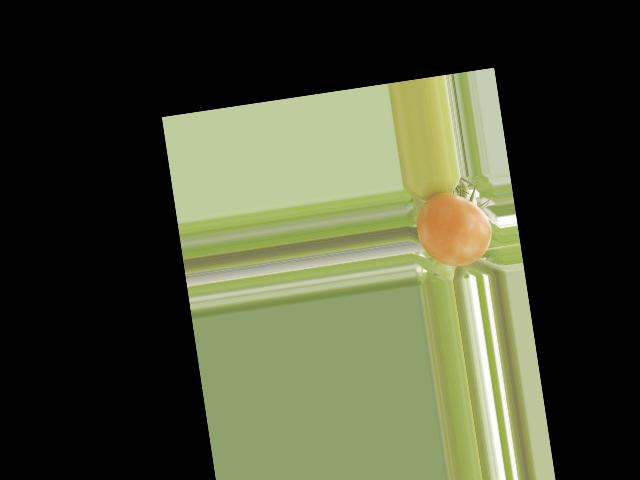tomato: (411, 186, 496, 271)
